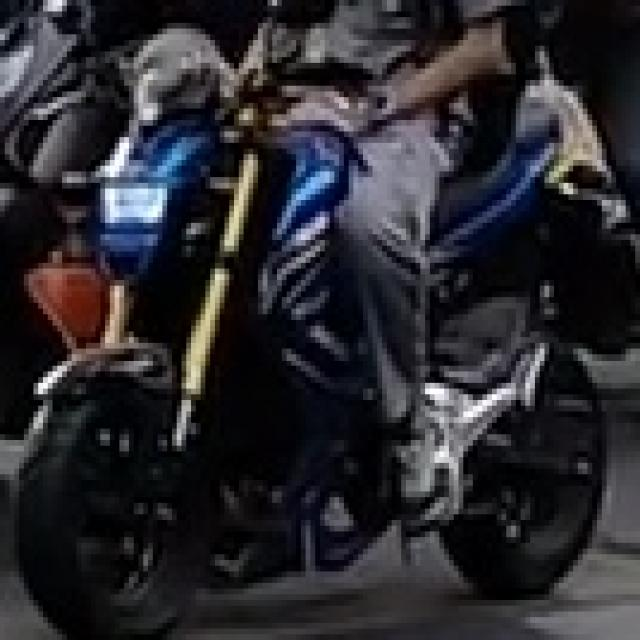door: (0, 0, 635, 634)
tyre: (9, 343, 206, 634), (434, 349, 606, 594)
